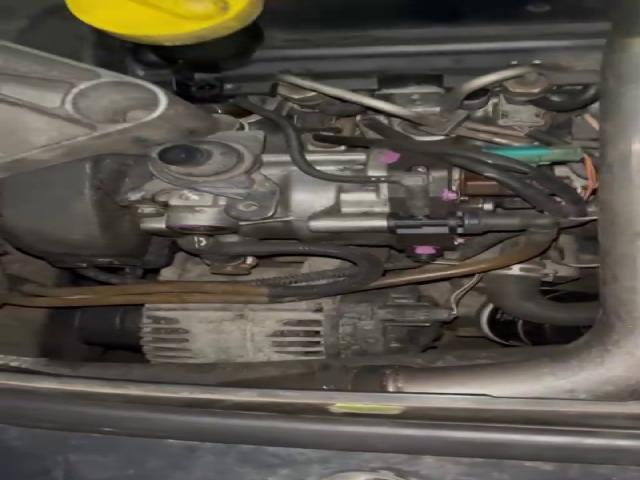alternator: (138, 285, 459, 362)
high_pressure_pump: (128, 141, 503, 262)
